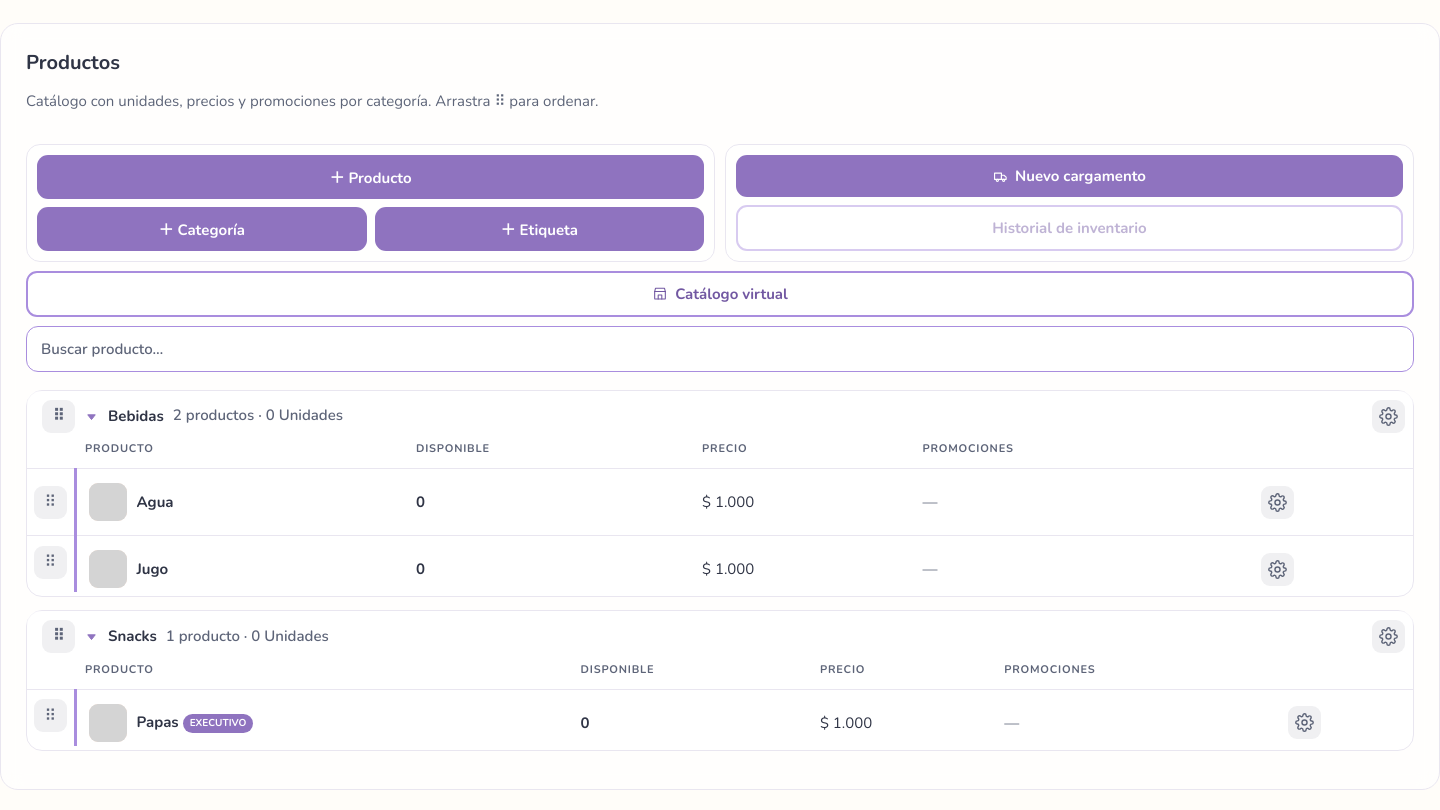
Scenario: Buscador de productos en Catálogo e Inventario › Catálogo: al escribir, solo quedan las categorías con coincidencias (por nombre o tag)
Expected: the text "Agua" is shown, [136, 492, 174, 512]
Type "j" into the search field with placeholder "Buscar producto…".
click(720, 349); type("j")  # box [26, 326, 1414, 372]
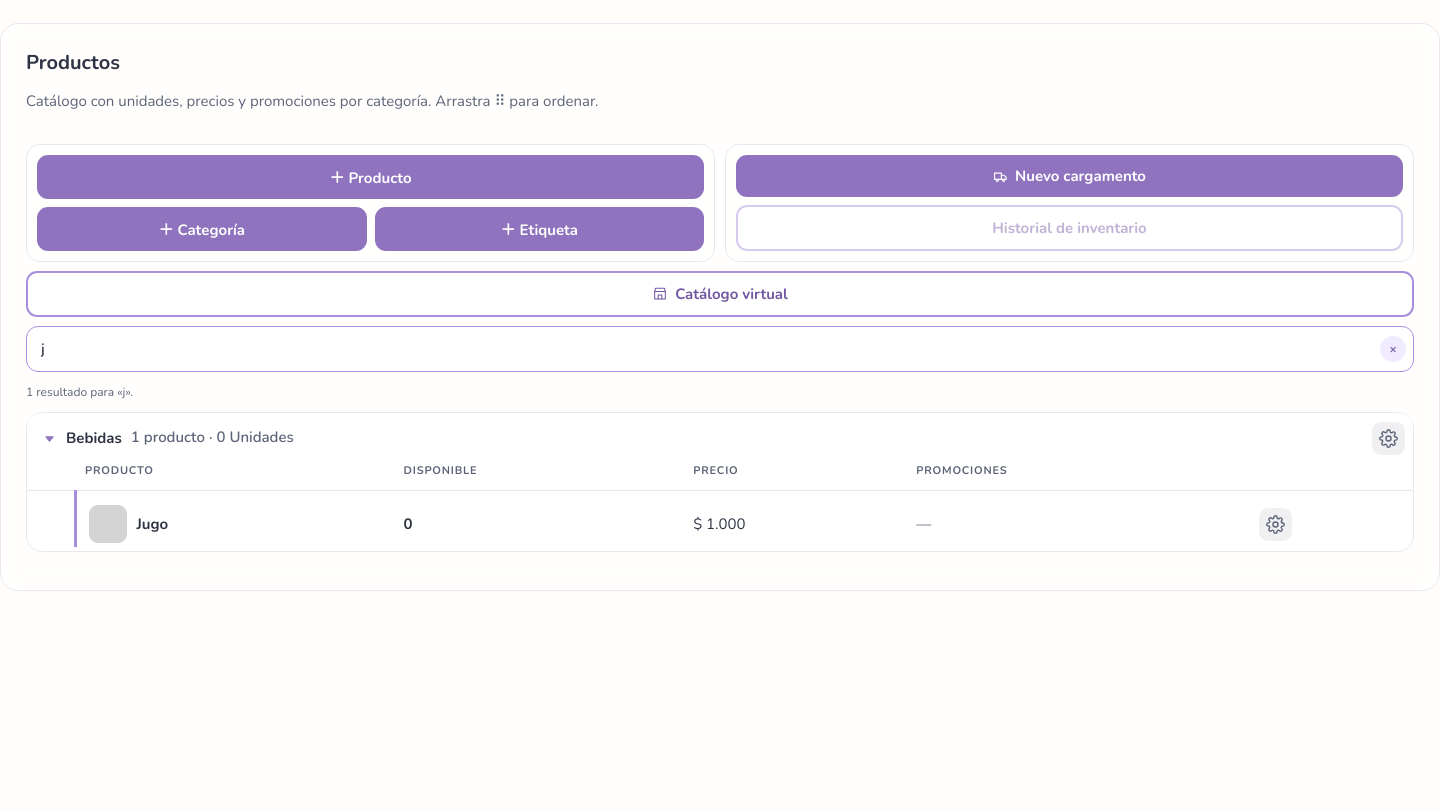
Expected: the text "Agua" is gone
Expected: the text "Papas" is gone
Expected: the button "Snacks" is gone
El filtro también busca en el tag.
Replace the text in the search field with placeholder "Buscar producto…" with "executivo" at x=720, y=349, box [26, 326, 1414, 372]
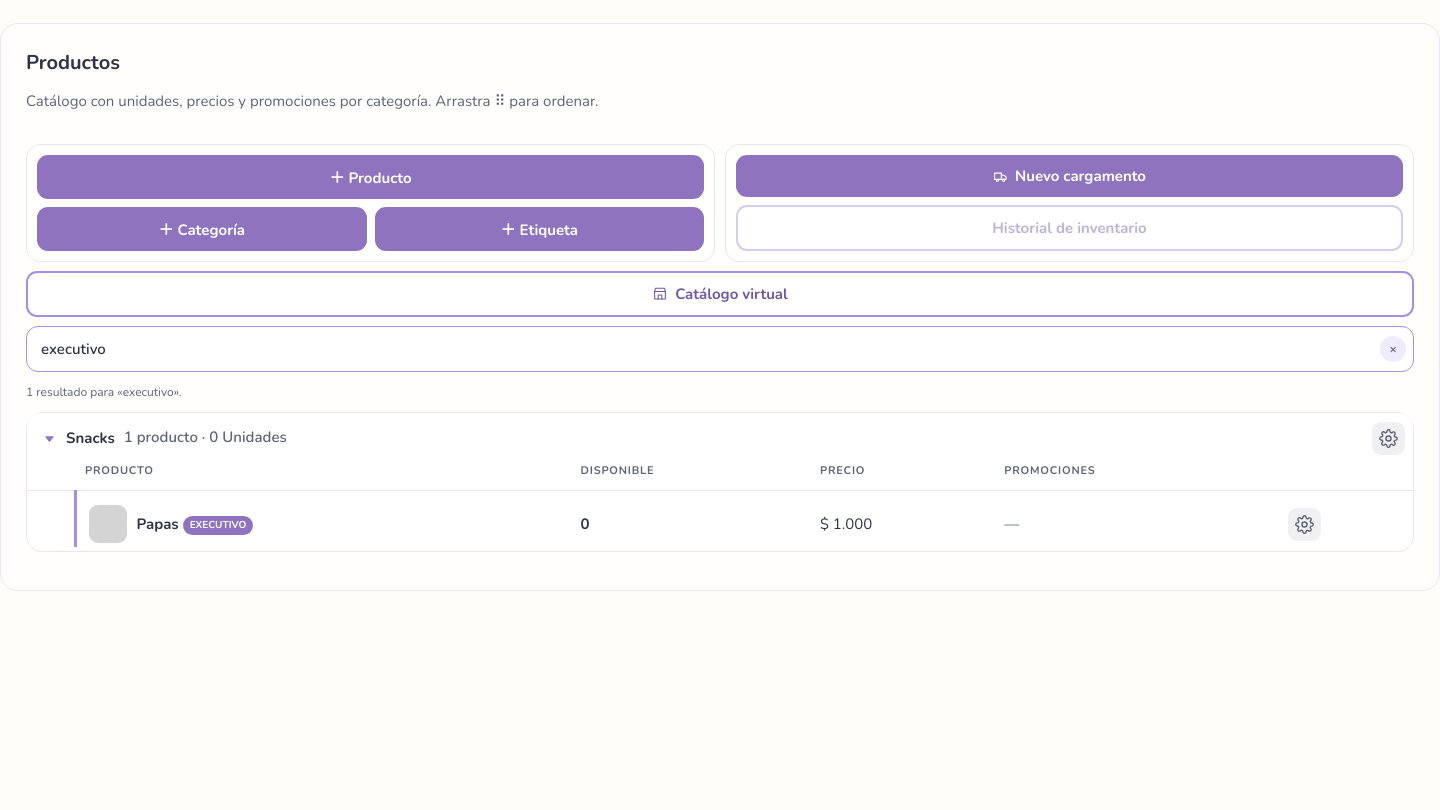
Expected: the text "Papas" is shown, [136, 514, 179, 534]
Sin coincidencias: aviso, sin productos a la vista.
Replace the text in the search field with placeholder "Buscar producto…" with "zzz" at x=720, y=349, box [26, 326, 1414, 372]
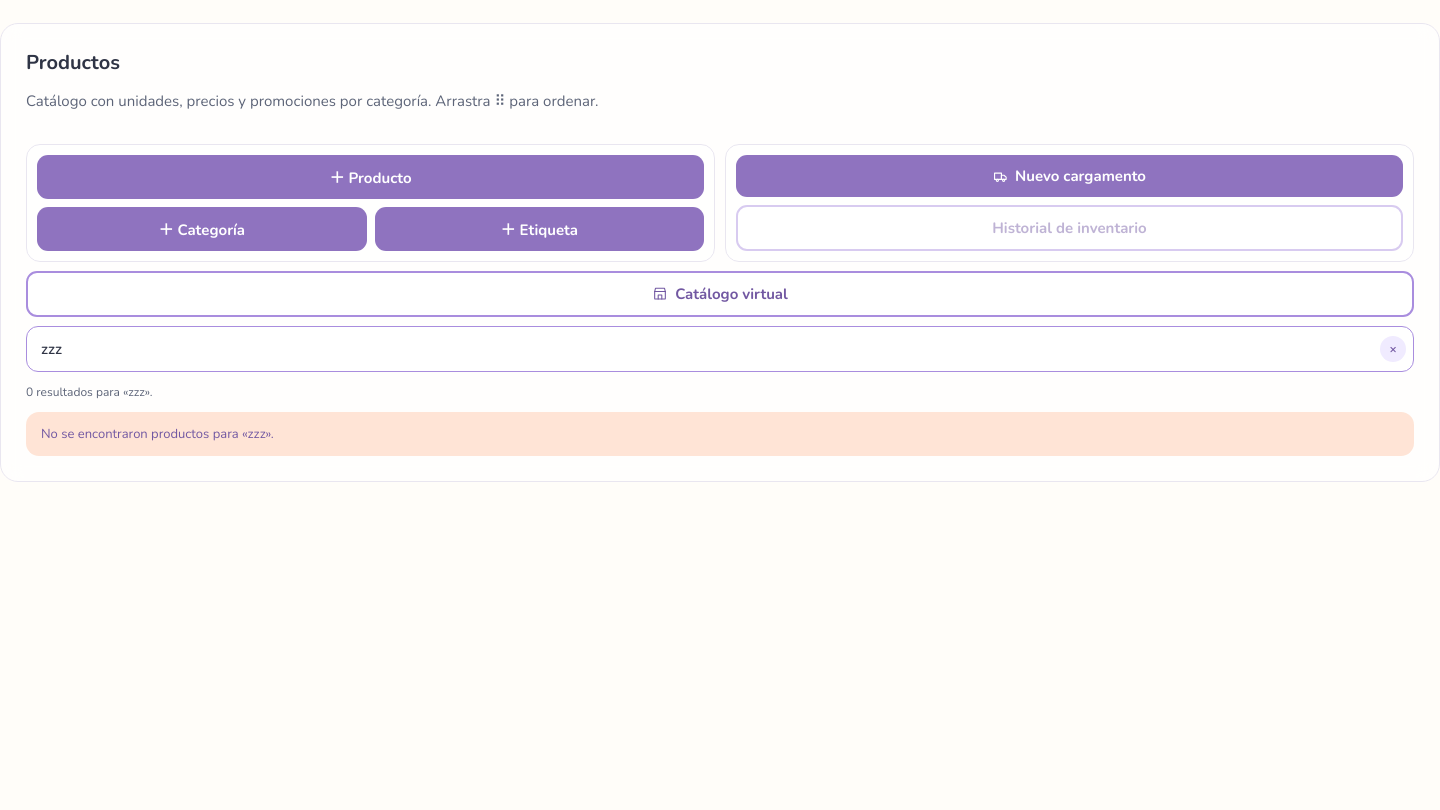
Expected: the text "Jugo" is not shown
Expected: the text "No se encontraron productos para «zzz»." is shown, [26, 412, 1414, 456]
